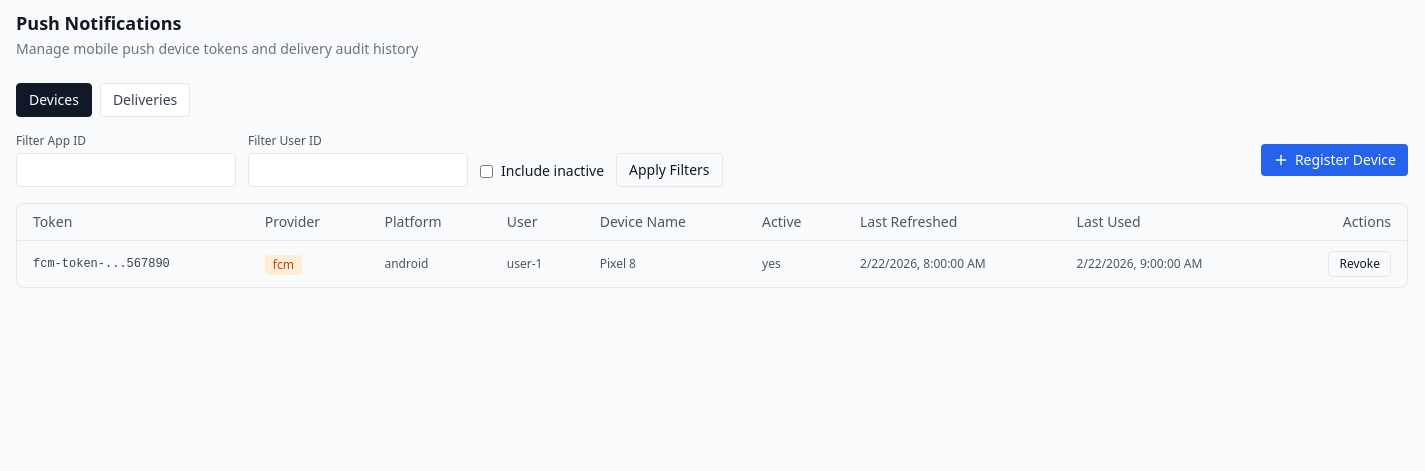
PushNotifications › loads deliveries, applies status filter, and expands delivery details
Step 1. Click the button "Deliveries" → x=145, y=100, box [100,83,190,117]
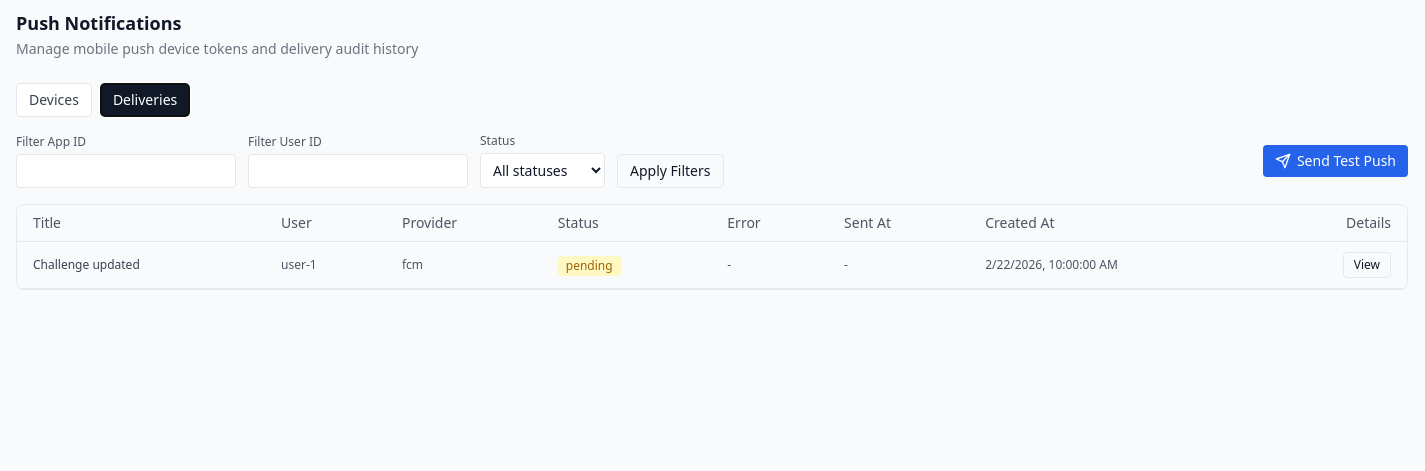
Check: the text "Challenge updated" is shown, box [17,242,265,288]
Step 2. Select "failed" in the dropdown labelled "Status" → x=542, y=170, box [480,153,605,188]
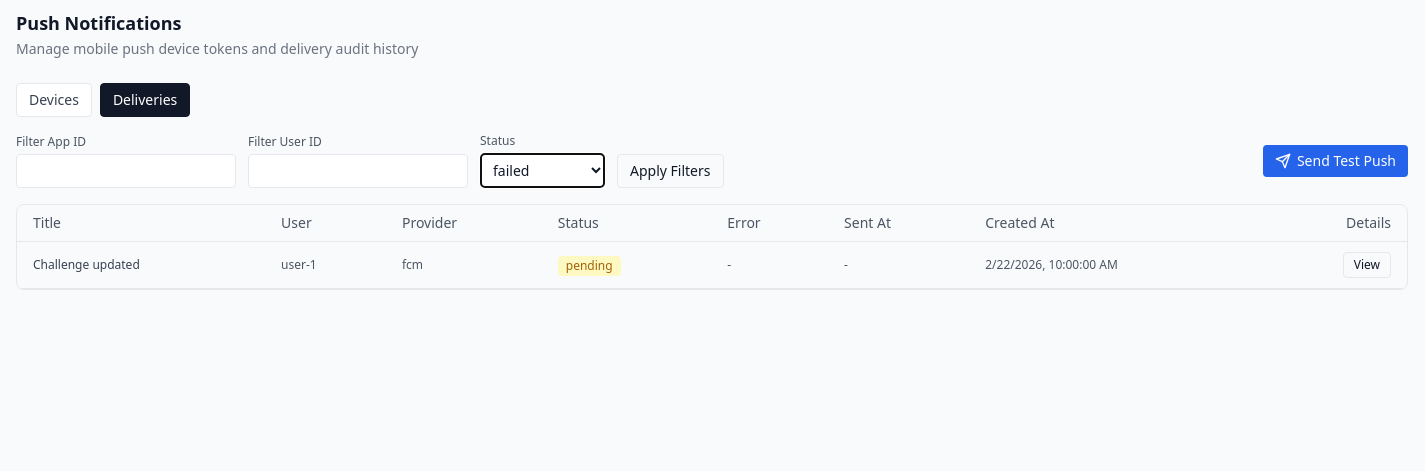
Step 3. Click the button "Apply Filters" → x=670, y=171, box [617,154,724,188]
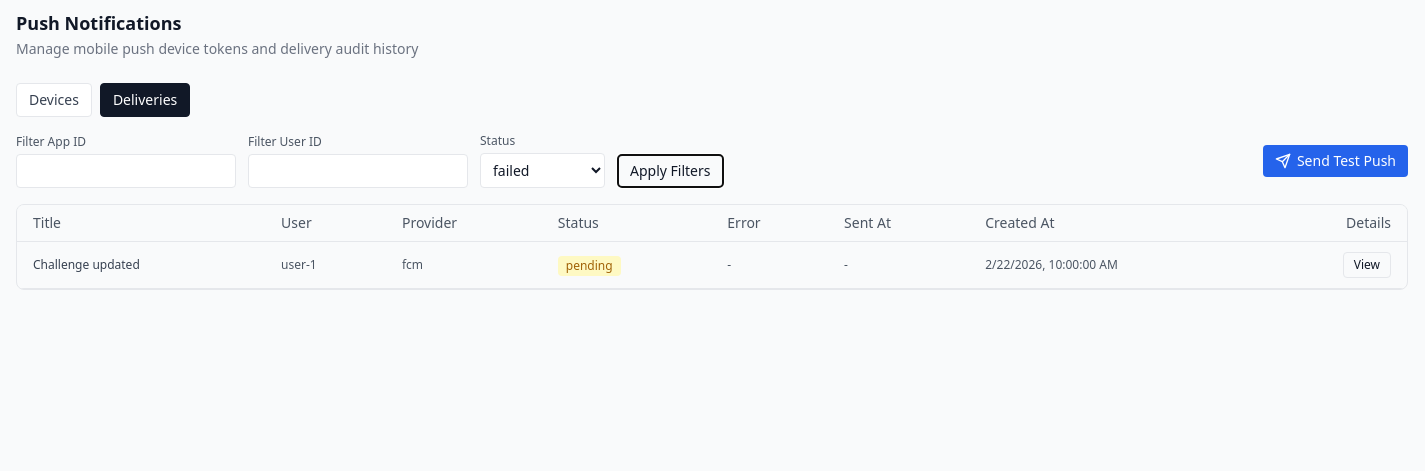
Step 4. Click the button with aria-label "View delivery deliv-1" → x=1367, y=265, box [1343,252,1391,278]
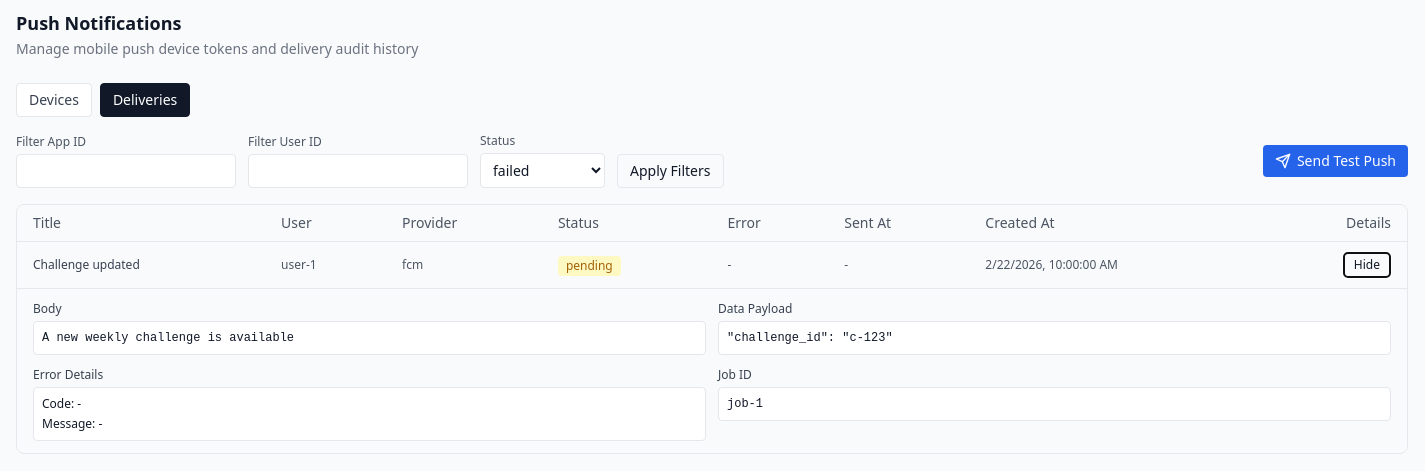
Check: the text "Job ID" is shown, box [718,366,752,383]
Check: the text "job-1" is shown, box [718,387,1391,421]
Check: the text "\"challenge_id\": \"c-123\"" is shown, box [727,331,893,345]
